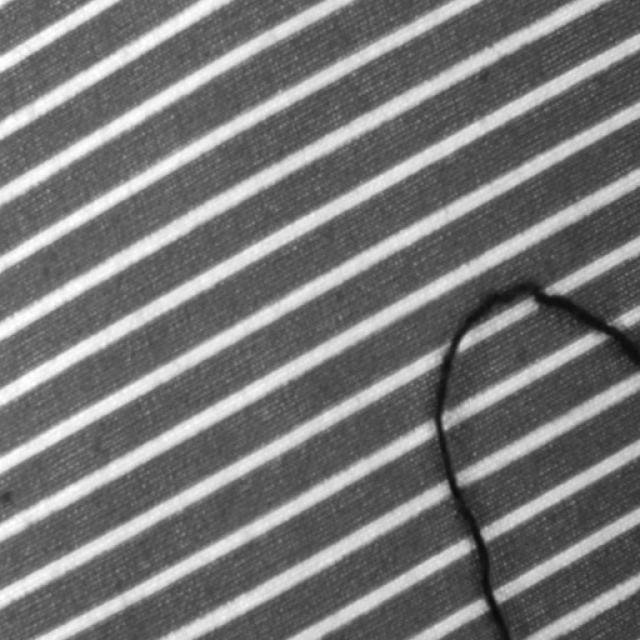Foreign-Body-Defect: (432, 276, 639, 639)
